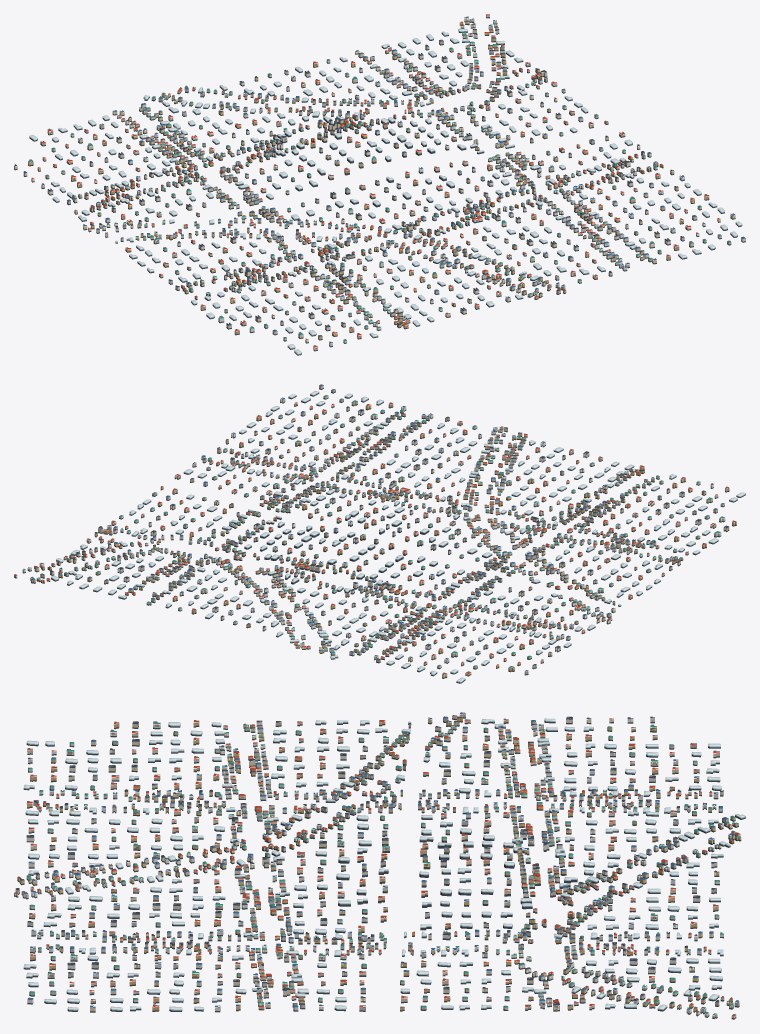
File: osm_buildings_T_W02_N02.glb
3 views of the same model, one above another, from view 1: azimuth 30°, elevation 25°; view 2: azimuth 150°, elevation 25°; view 3: azimuth 270°, elevation 25° (orthographic). The views are drawn at different scales.
Parts seen in each view (by area): view 1: OSM_T_W02_N02_foundation, OSM_T_W02_N02_greenhouse_blend, OSM_T_W02_N02_wall_cream_stucco, OSM_T_W02_N02_wall_french_ochre, OSM_T_W02_N02_wall_warm_white, OSM_T_W02_N02_wall_pastel_sand, OSM_T_W02_N02_roof_terracotta, OSM_T_W02_N02_roof_mansard_slate, OSM_T_W02_N02_roof_mint_metal, OSM_T_W02_N02_roof_alpine_blue; view 2: OSM_T_W02_N02_foundation, OSM_T_W02_N02_greenhouse_blend, OSM_T_W02_N02_wall_cream_stucco, OSM_T_W02_N02_wall_french_ochre, OSM_T_W02_N02_wall_warm_white, OSM_T_W02_N02_wall_pastel_sand, OSM_T_W02_N02_roof_terracotta, OSM_T_W02_N02_roof_mansard_slate, OSM_T_W02_N02_roof_mint_metal, OSM_T_W02_N02_roof_alpine_blue; view 3: OSM_T_W02_N02_foundation, OSM_T_W02_N02_greenhouse_blend, OSM_T_W02_N02_wall_cream_stucco, OSM_T_W02_N02_wall_french_ochre, OSM_T_W02_N02_wall_warm_white, OSM_T_W02_N02_wall_pastel_sand, OSM_T_W02_N02_roof_terracotta, OSM_T_W02_N02_roof_mansard_slate, OSM_T_W02_N02_roof_mint_metal, OSM_T_W02_N02_roof_alpine_blue, OSM_T_W02_N02_roof_mansard_deck.
Part boxes in pixels (<box>): OSM_T_W02_N02_foundation: <box>14,17,745,355</box>; OSM_T_W02_N02_greenhouse_blend: <box>29,28,742,354</box>; OSM_T_W02_N02_wall_cream_stucco: <box>14,21,735,350</box>; OSM_T_W02_N02_wall_french_ochre: <box>28,22,720,339</box>; OSM_T_W02_N02_wall_warm_white: <box>23,15,745,346</box>; OSM_T_W02_N02_wall_pastel_sand: <box>40,18,731,328</box>; OSM_T_W02_N02_roof_terracotta: <box>31,14,720,347</box>; OSM_T_W02_N02_roof_mansard_slate: <box>14,23,684,343</box>; OSM_T_W02_N02_roof_mint_metal: <box>28,18,730,340</box>; OSM_T_W02_N02_roof_alpine_blue: <box>67,16,745,336</box>; OSM_T_W02_N02_foundation: <box>14,388,745,683</box>; OSM_T_W02_N02_greenhouse_blend: <box>51,391,745,682</box>; OSM_T_W02_N02_wall_cream_stucco: <box>22,399,729,677</box>; OSM_T_W02_N02_wall_french_ochre: <box>36,403,736,671</box>; OSM_T_W02_N02_wall_warm_white: <box>14,385,725,668</box>; OSM_T_W02_N02_wall_pastel_sand: <box>30,389,716,675</box>; OSM_T_W02_N02_roof_terracotta: <box>14,402,736,674</box>; OSM_T_W02_N02_roof_mansard_slate: <box>40,406,728,671</box>; OSM_T_W02_N02_roof_mint_metal: <box>23,389,724,667</box>; OSM_T_W02_N02_roof_alpine_blue: <box>31,384,717,659</box>; OSM_T_W02_N02_foundation: <box>14,717,745,1019</box>; OSM_T_W02_N02_greenhouse_blend: <box>23,718,745,1010</box>; OSM_T_W02_N02_wall_cream_stucco: <box>14,714,740,1017</box>; OSM_T_W02_N02_wall_french_ochre: <box>19,718,741,1011</box>; OSM_T_W02_N02_wall_warm_white: <box>26,715,736,1018</box>; OSM_T_W02_N02_wall_pastel_sand: <box>15,718,739,1012</box>; OSM_T_W02_N02_roof_terracotta: <box>14,715,739,1015</box>; OSM_T_W02_N02_roof_mansard_slate: <box>16,716,723,1006</box>; OSM_T_W02_N02_roof_mint_metal: <box>27,721,740,1015</box>; OSM_T_W02_N02_roof_alpine_blue: <box>23,712,739,1009</box>; OSM_T_W02_N02_roof_mansard_deck: <box>27,716,698,988</box>.
Size of the model in its own units: 1968 by 79.04 by 1978.
